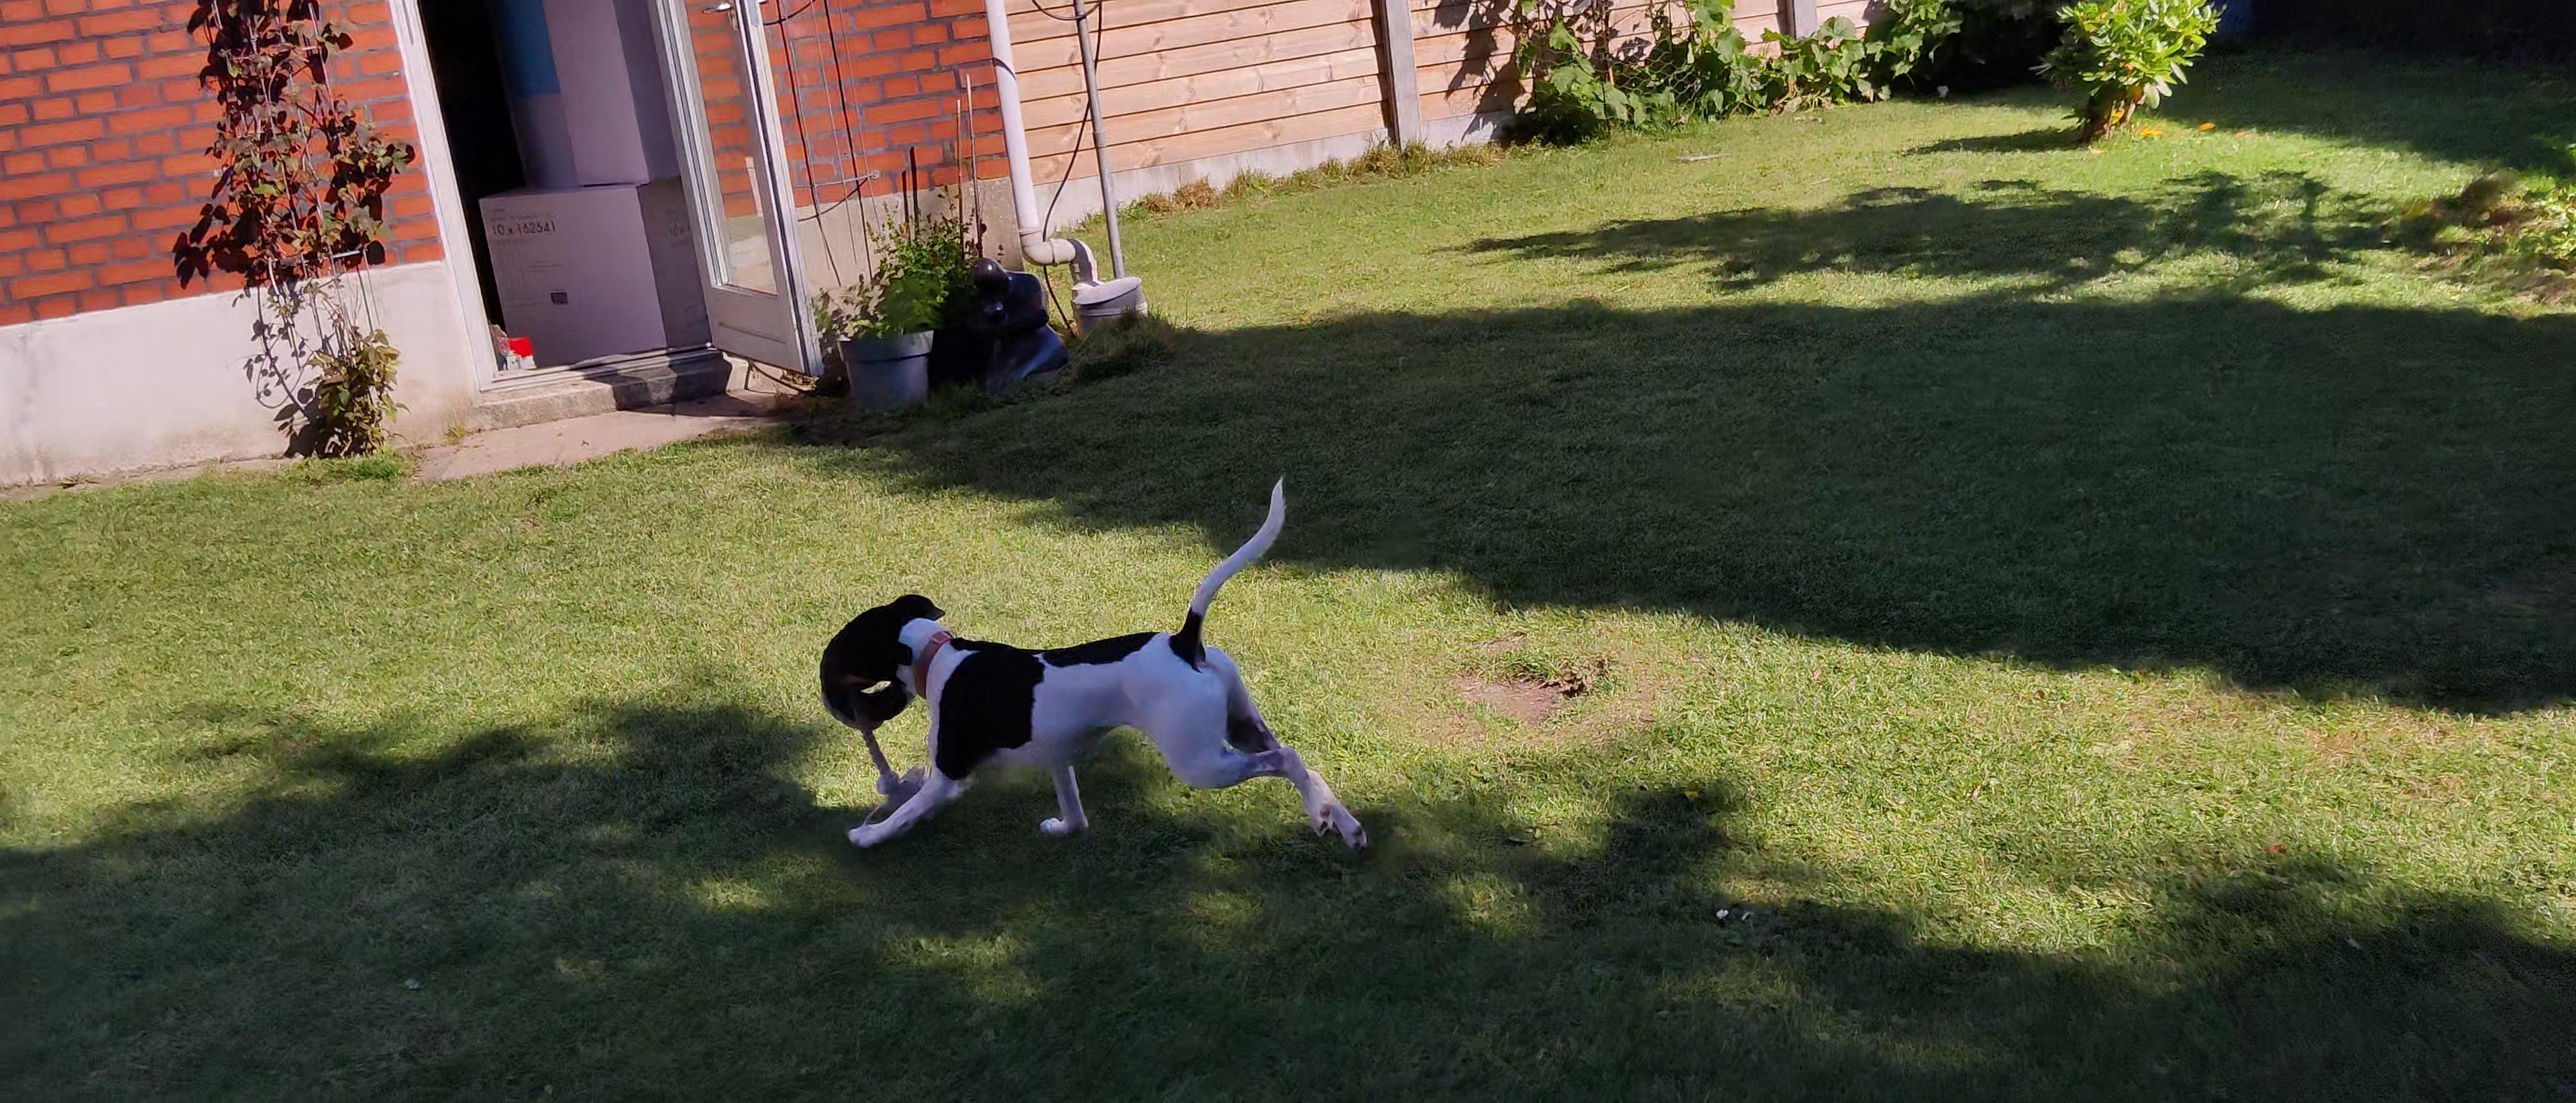Dog: (818, 467, 1370, 851)
